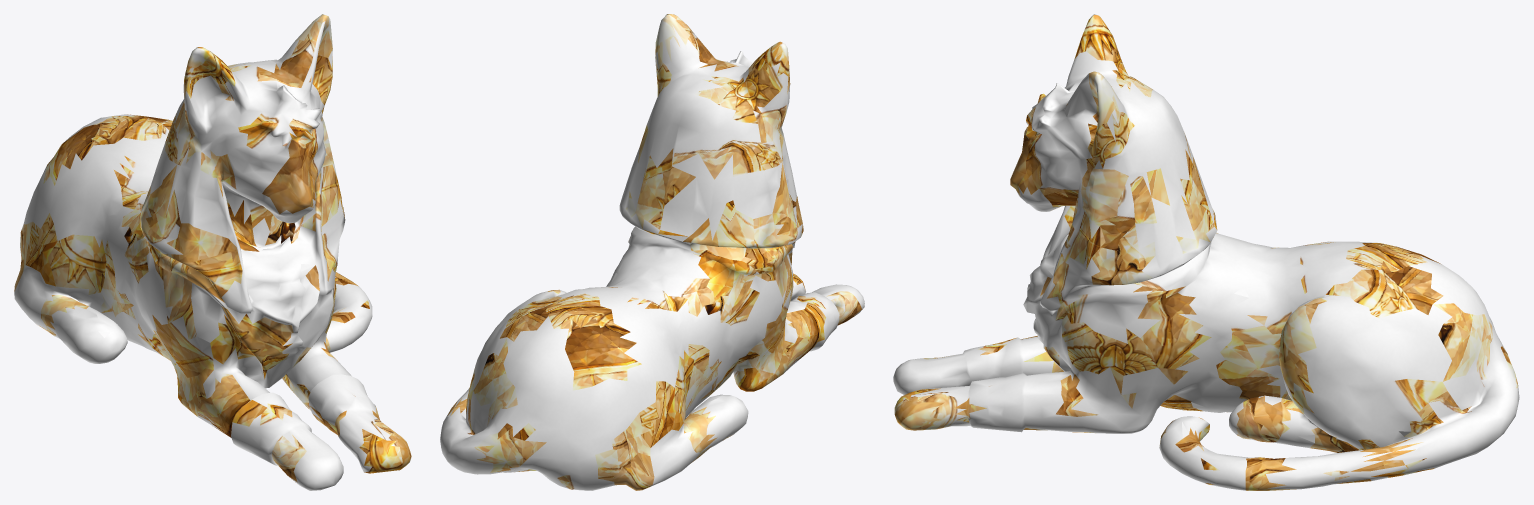
File: gilded_sphinx_gold_7500tris.fbx
The picture shows the model from 3 angles, left to right: view 1: azimuth 30°, elevation 25°; view 2: azimuth 150°, elevation 25°; view 3: azimuth 270°, elevation 25°; orthographic projection. The views are drawn at different scales.
Parts seen in each view (by area): view 1: gilded_sphinx_gold_decimated; view 2: gilded_sphinx_gold_decimated; view 3: gilded_sphinx_gold_decimated.
Boxes of the visible parts, x1=… form: gilded_sphinx_gold_decimated: x1=14, y1=14, x2=411, y2=490; gilded_sphinx_gold_decimated: x1=440, y1=14, x2=864, y2=490; gilded_sphinx_gold_decimated: x1=893, y1=14, x2=1519, y2=490.
Size of the model in its own units: 0.9746 by 1.23 by 1.91.
